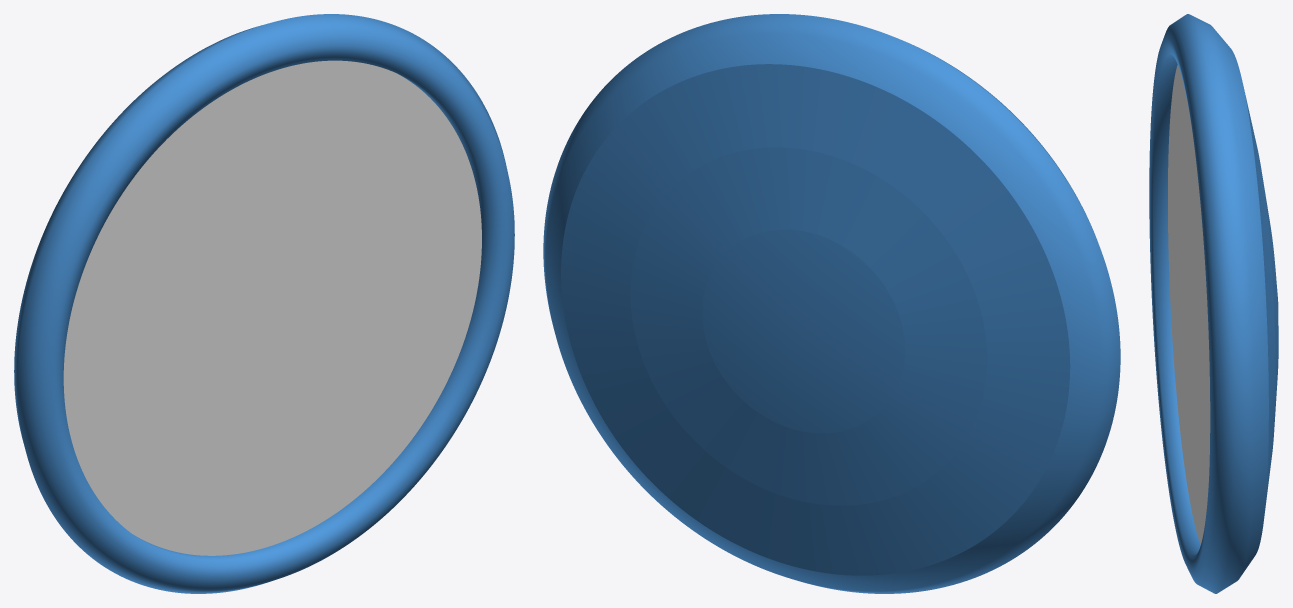
3 renders of one model, left to right at view 1: azimuth 30°, elevation 25°; view 2: azimuth 150°, elevation 25°; view 3: azimuth 270°, elevation 25°, orthographic. The views are drawn at different scales.
Visible parts, largest first — view 1: часы; view 2: часы; view 3: часы.
Part boxes in pixels (left/top/right/bottom): часы: left=14, top=14, right=514, bottom=593; часы: left=543, top=14, right=1120, bottom=593; часы: left=1149, top=14, right=1278, bottom=593.
Bounding box in the file's own units: 483 × 486 × 108.
